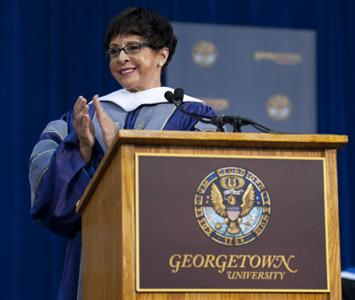person: (26, 9, 229, 300)
